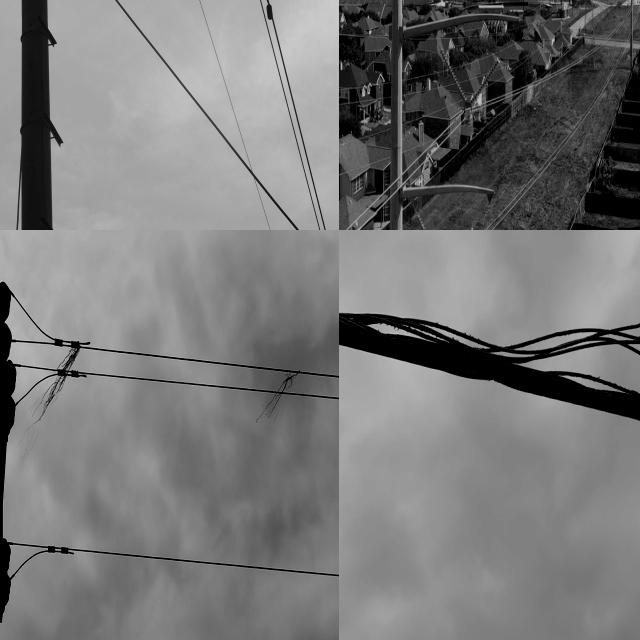杆塔: (0, 0, 247, 230)
植被遮挡: (26, 337, 82, 441), (248, 359, 306, 435)
正常绝缘子: (462, 51, 505, 117), (436, 39, 470, 113), (412, 203, 430, 230)
电缆破损: (360, 284, 640, 432)
